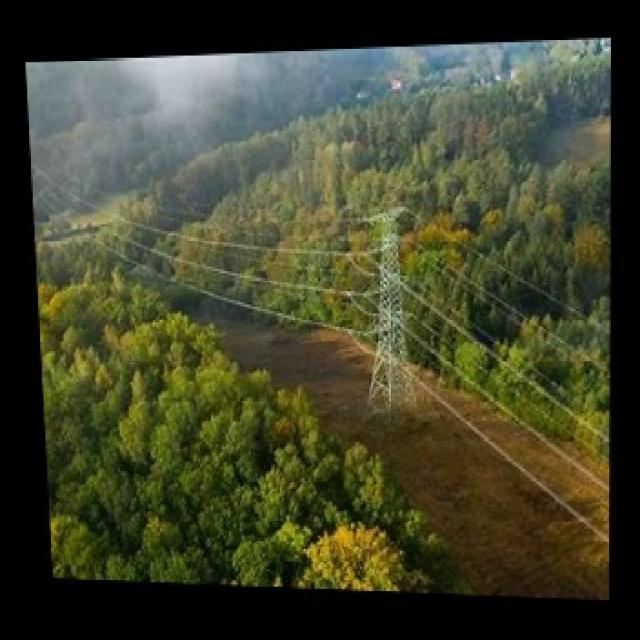utility poles: (334, 157, 430, 434)
